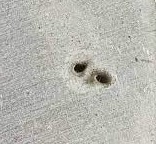Spalling: (91, 70, 112, 87), (72, 61, 88, 76)
